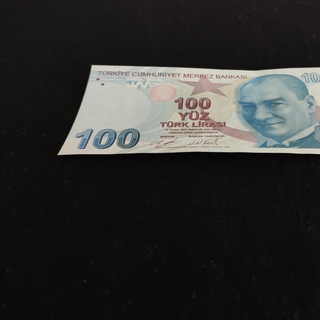100TLFront: (57, 63, 320, 154)
